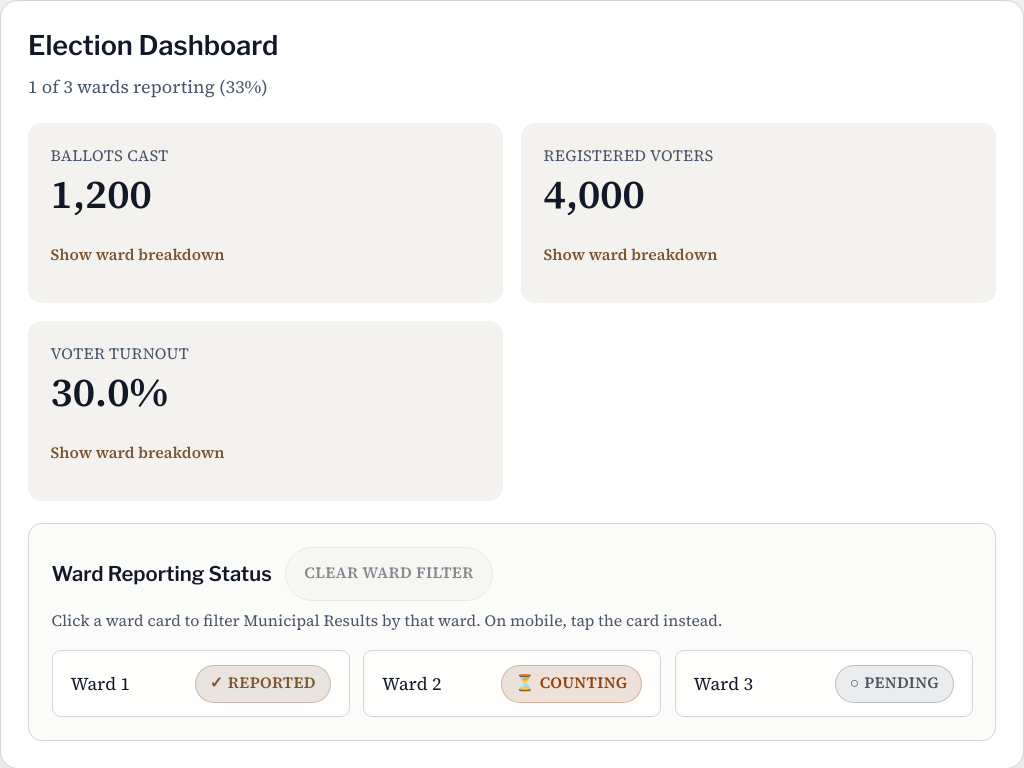
Test: ReportingSummary › shows expandable ward breakdowns for ballots cast and registered voters
Click the button with aria-label "show ward breakdown for ballots cast" at (138, 255), box [50, 230, 224, 280]
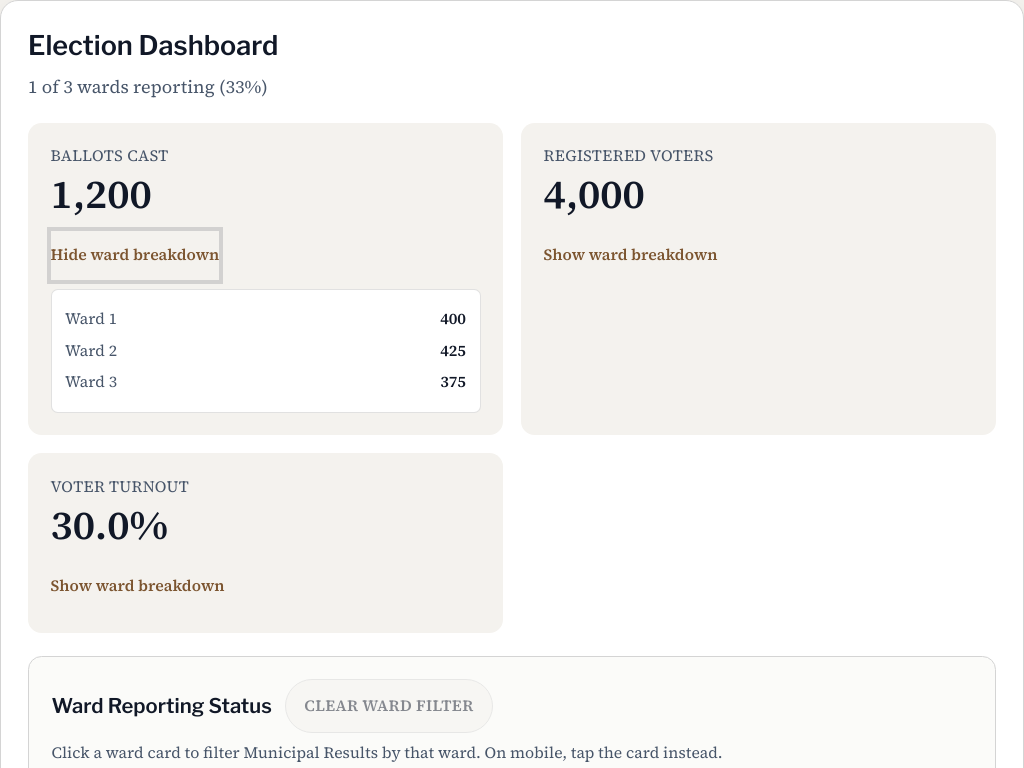
Check: the list named "ballots cast ward breakdown" shows "Ward 1", box [50, 289, 480, 412]
Check: the list named "ballots cast ward breakdown" shows "400", box [440, 308, 466, 329]
Check: the button named "show ward breakdown for ballots cast" is expanded, box [50, 230, 219, 280]
Click the button with aria-label "show ward breakdown for registered voters" at (630, 255), box [544, 230, 718, 280]
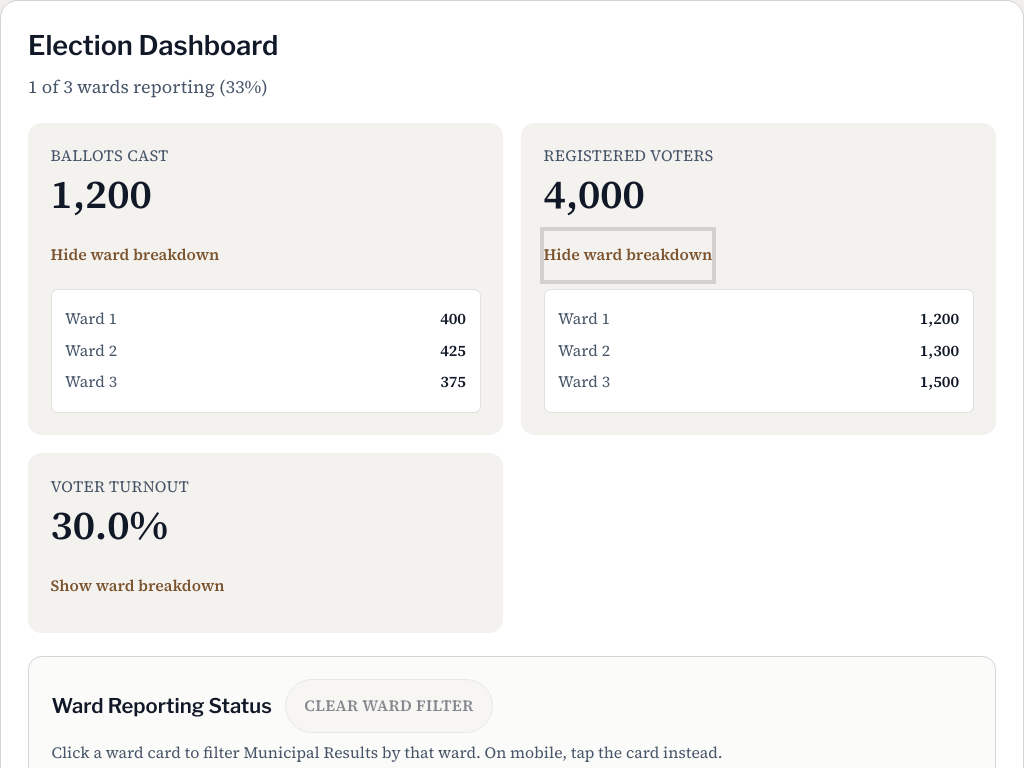
Check: the list named "registered voters ward breakdown" shows "1,300", box [920, 340, 959, 360]
Click the button with aria-label "show ward breakdown for voter turnout" at (138, 586), box [50, 561, 224, 610]
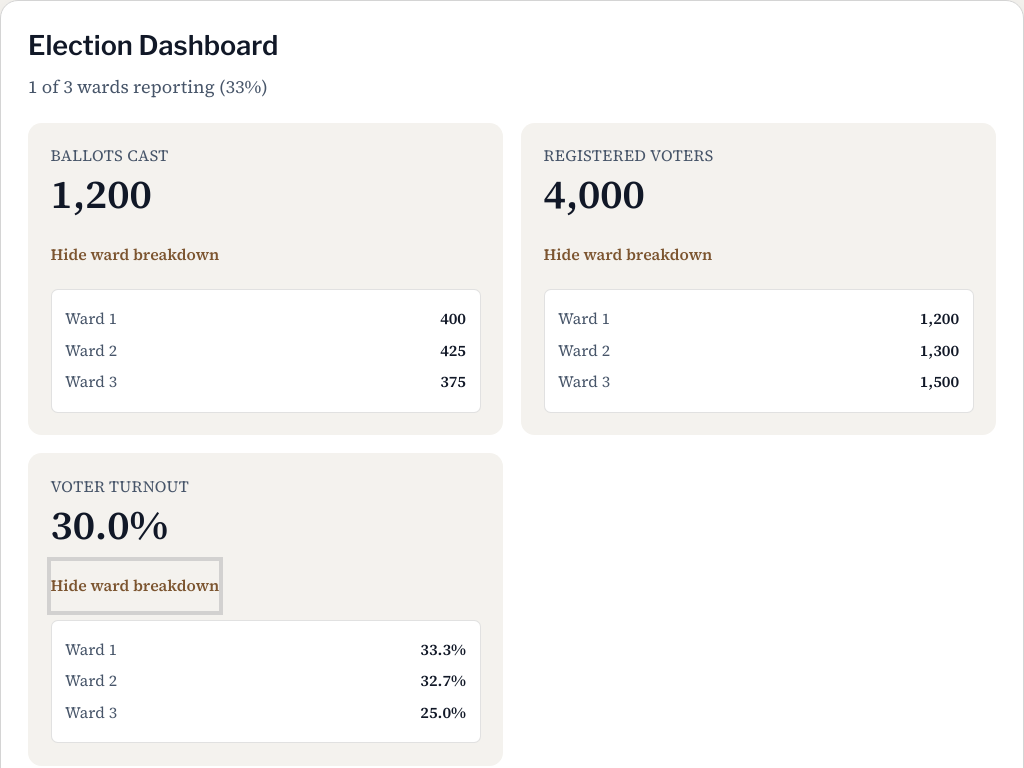
Check: the list named "voter turnout ward breakdown" shows "33.3%", box [420, 638, 466, 660]
Check: the list named "voter turnout ward breakdown" shows "32.7%", box [420, 670, 466, 691]
